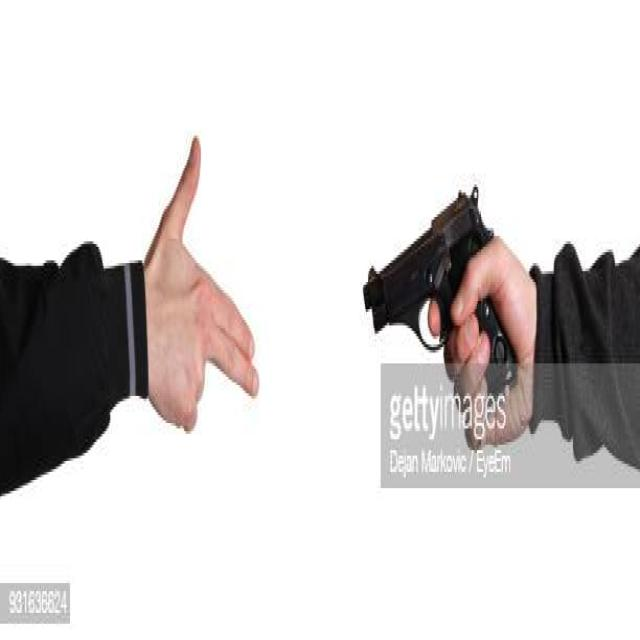HandGun: (362, 187, 516, 409)
